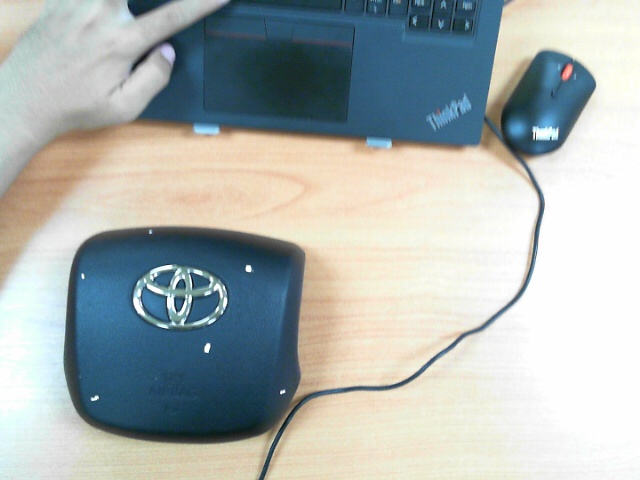Airbag: (90, 394, 99, 402), (245, 264, 252, 273), (204, 343, 210, 353), (279, 388, 286, 395), (80, 272, 86, 280), (149, 229, 153, 235)
